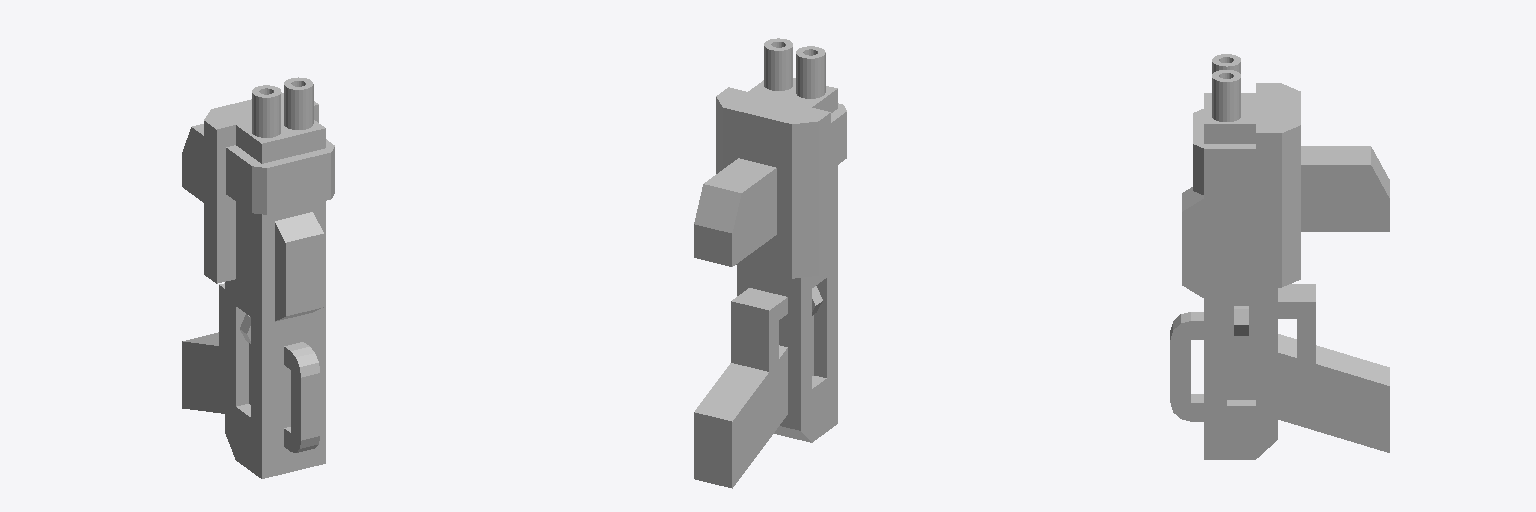
File: SMG.obj
3 renders of one model, left to right at view 1: azimuth 30°, elevation 25°; view 2: azimuth 150°, elevation 25°; view 3: azimuth 270°, elevation 25°, orthographic.
Visible parts, largest first — view 1: SMG; view 2: SMG; view 3: SMG.
Boxes of the visible parts, box(x1,y1,x2,y2) form: SMG: box(182, 77, 334, 478); SMG: box(694, 38, 846, 488); SMG: box(1170, 54, 1389, 459).
Bounding box in the file's own units: 1.6 × 5.6 × 2.96.